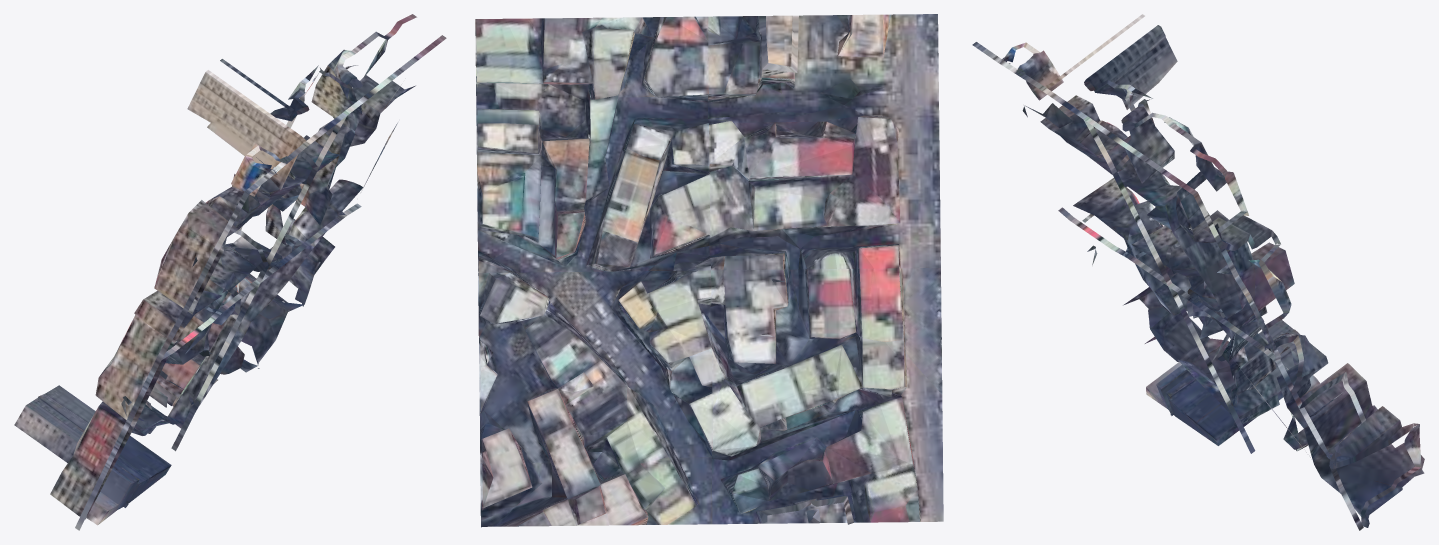
3 renders of one model, left to right at view 1: azimuth 30°, elevation 25°; view 2: azimuth 150°, elevation 25°; view 3: azimuth 270°, elevation 25°, orthographic. The views are drawn at different scales.
Size of the model in its own units: 153 by 159 by 149.
Materials: 1 (1 with a texture image).
